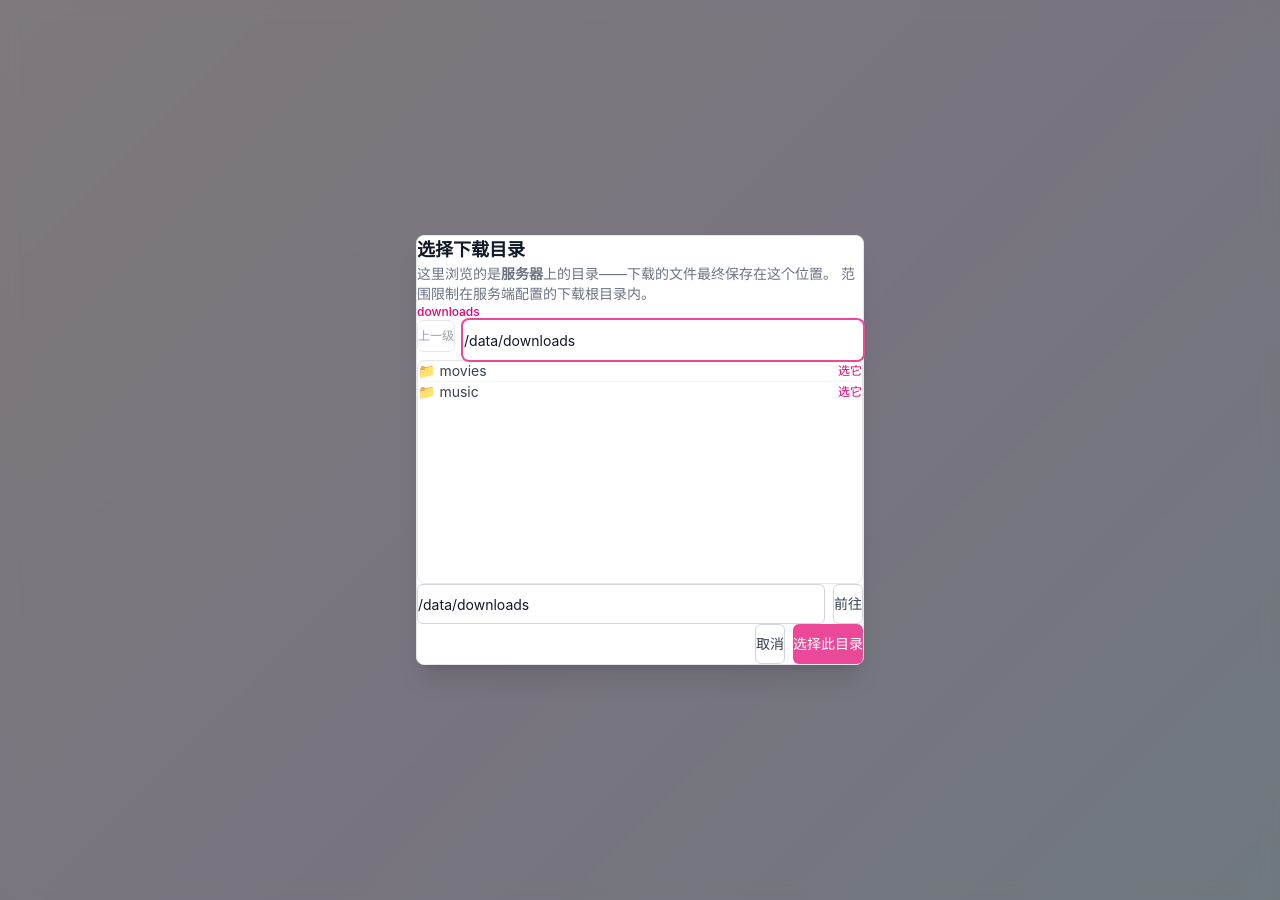
it: DirectoryPickerModal · 服务端目录浏览 › 点击目录进入下一层，并更新面包屑
What coordinates should you click on to do the following:
click the button with test id "dir-picker-entry-movies"
I would click on:
 (463, 370)
Its box is [418,361,830,381].
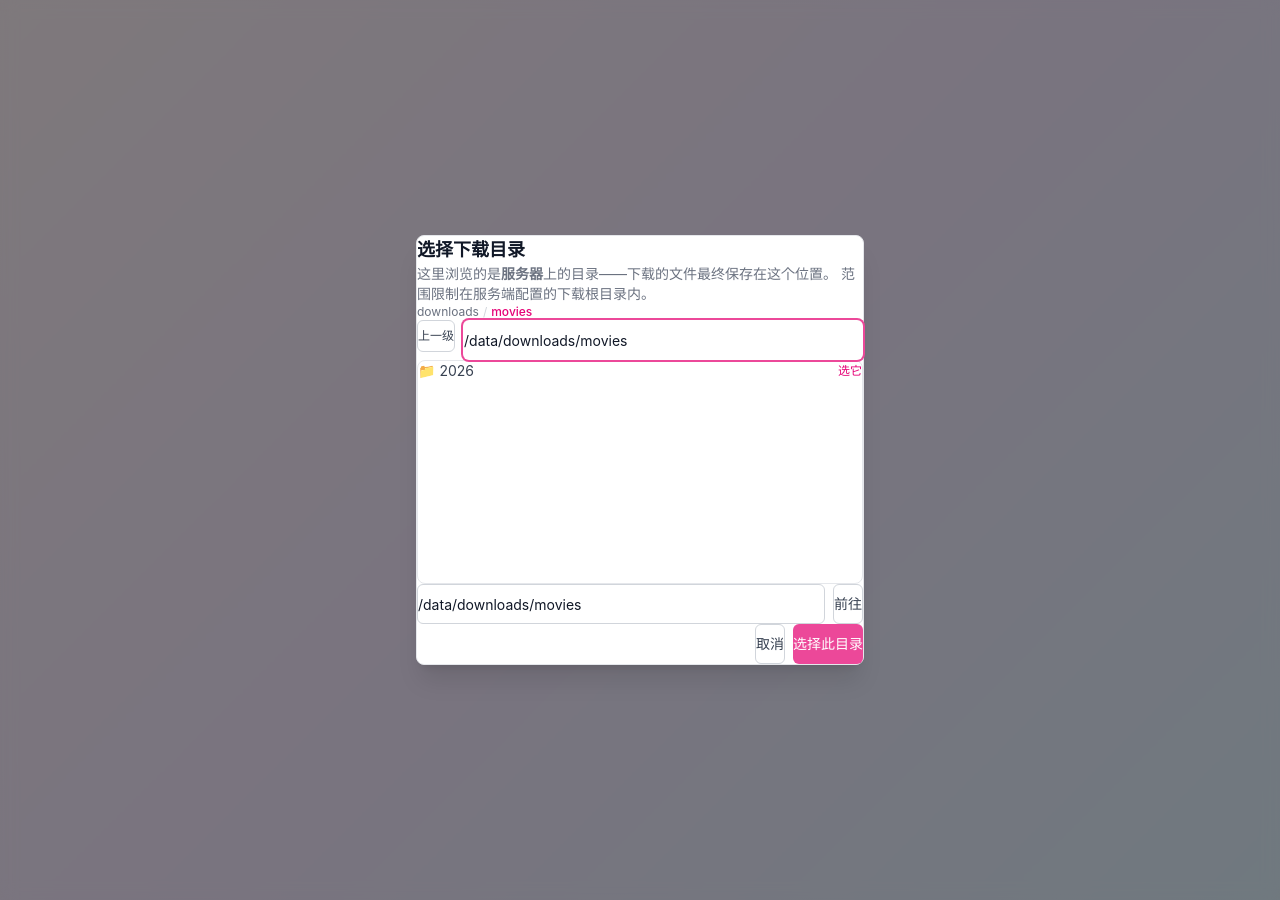
Expected: the button with test id "dir-picker-crumb-1" reads "movies", [491,304,532,320]
Now the button with test id "dir-picker-entry-2026" is shown, box [418,361,830,381]
Now the button with test id "dir-picker-up" is enabled, box [417,320,455,352]
